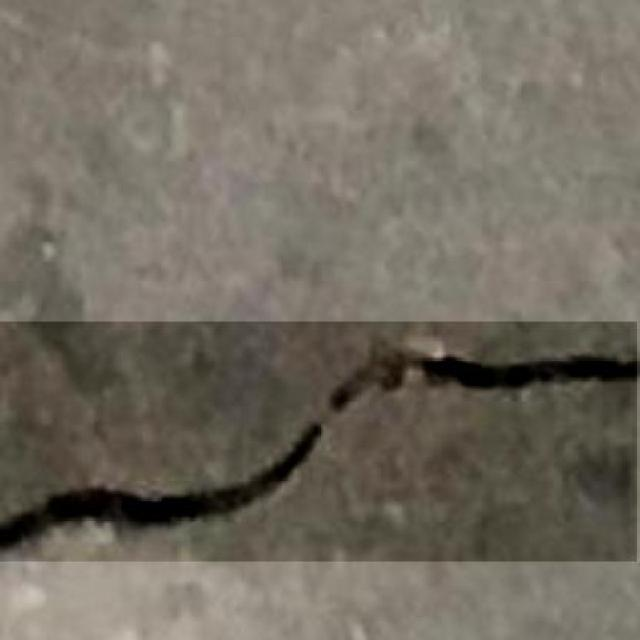Crack: (0, 323, 640, 572)
